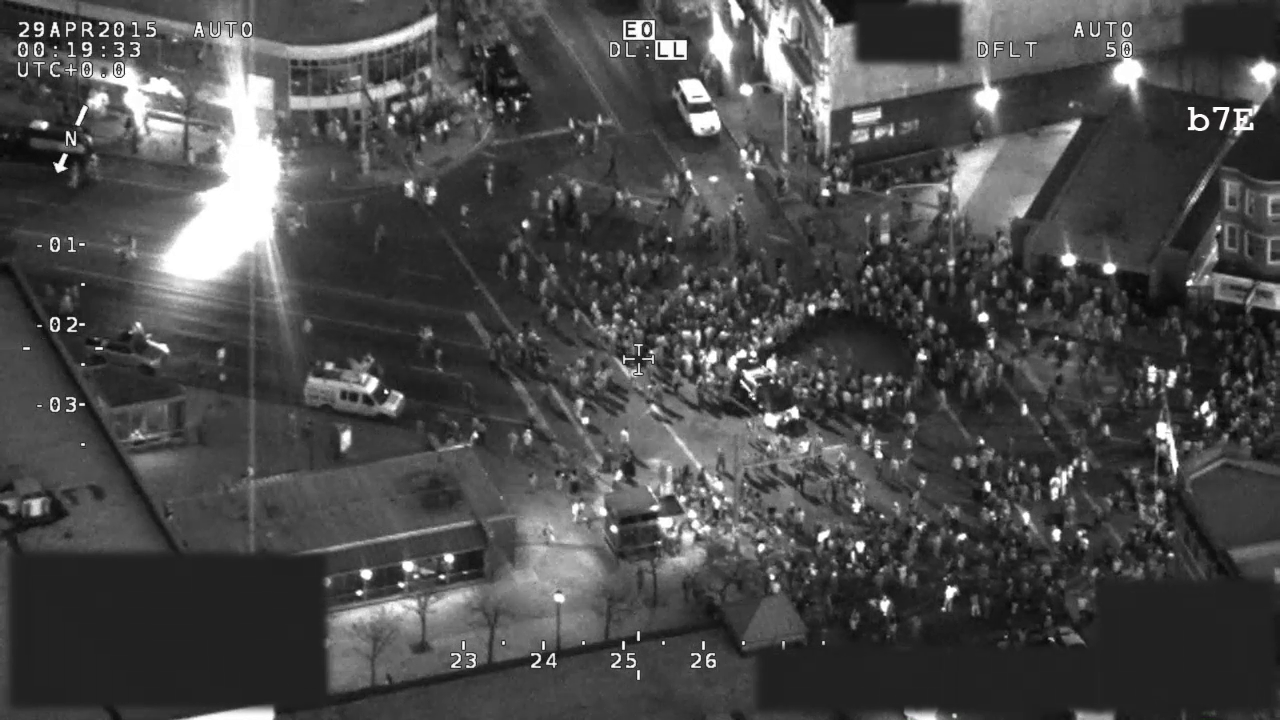vehicle: (293, 355, 412, 428), (727, 354, 808, 431), (463, 39, 542, 117), (81, 323, 172, 381), (1, 113, 99, 165), (669, 75, 729, 140)
